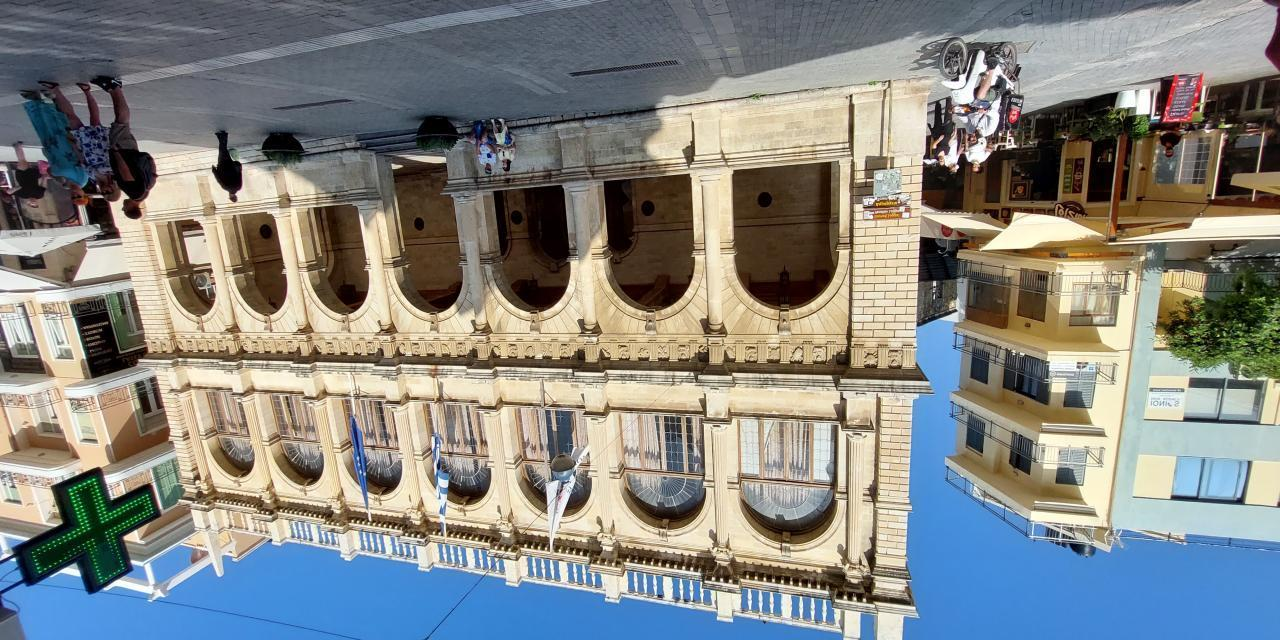Loggia: (109, 70, 954, 640)
